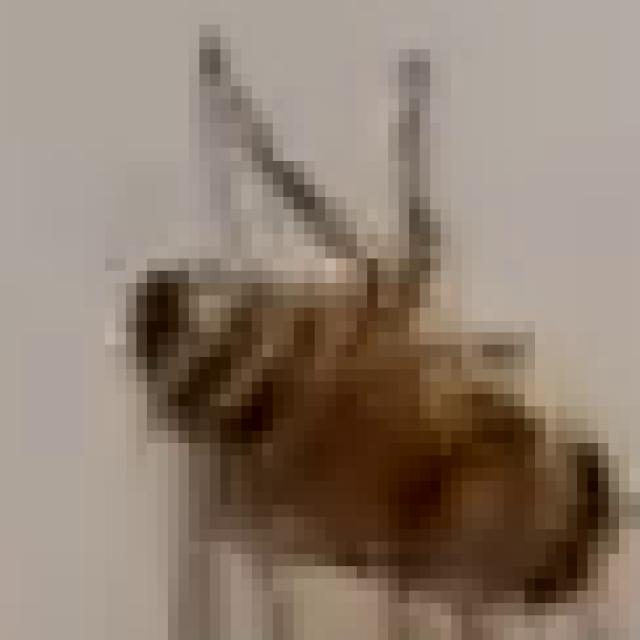honeybee: (132, 67, 607, 591)
